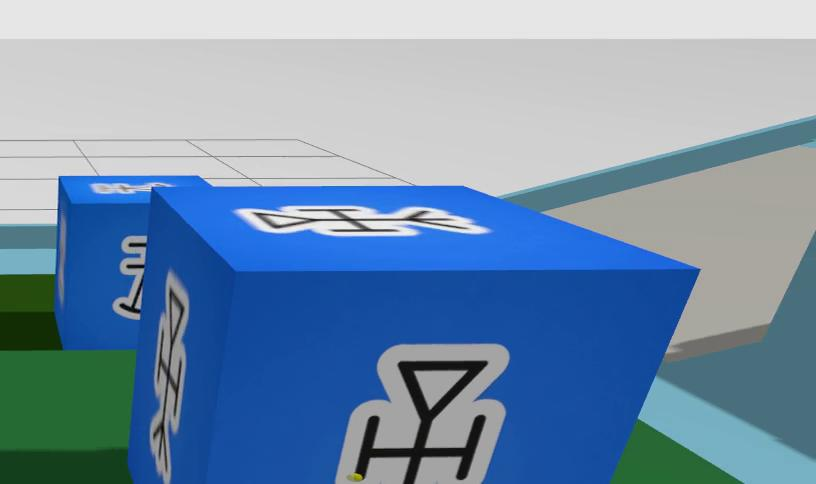KFS_REAL: (127, 184, 697, 484), (54, 174, 210, 348), (335, 344, 507, 484), (148, 271, 190, 484), (235, 206, 488, 236), (112, 236, 145, 319)
